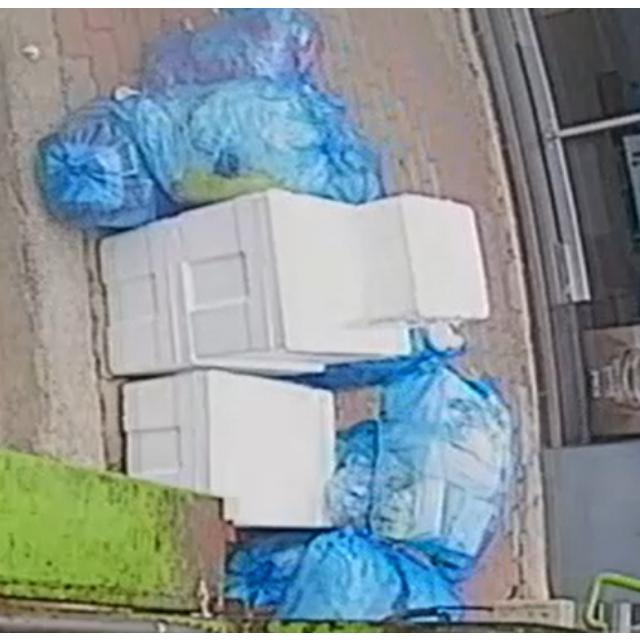other_trashbag: (115, 7, 381, 206), (370, 337, 511, 556), (226, 527, 472, 619), (38, 101, 176, 226)
